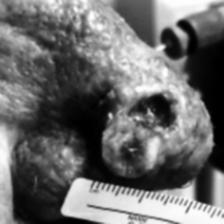Potentially Malignant Skin Tumors: (94, 79, 182, 178)
